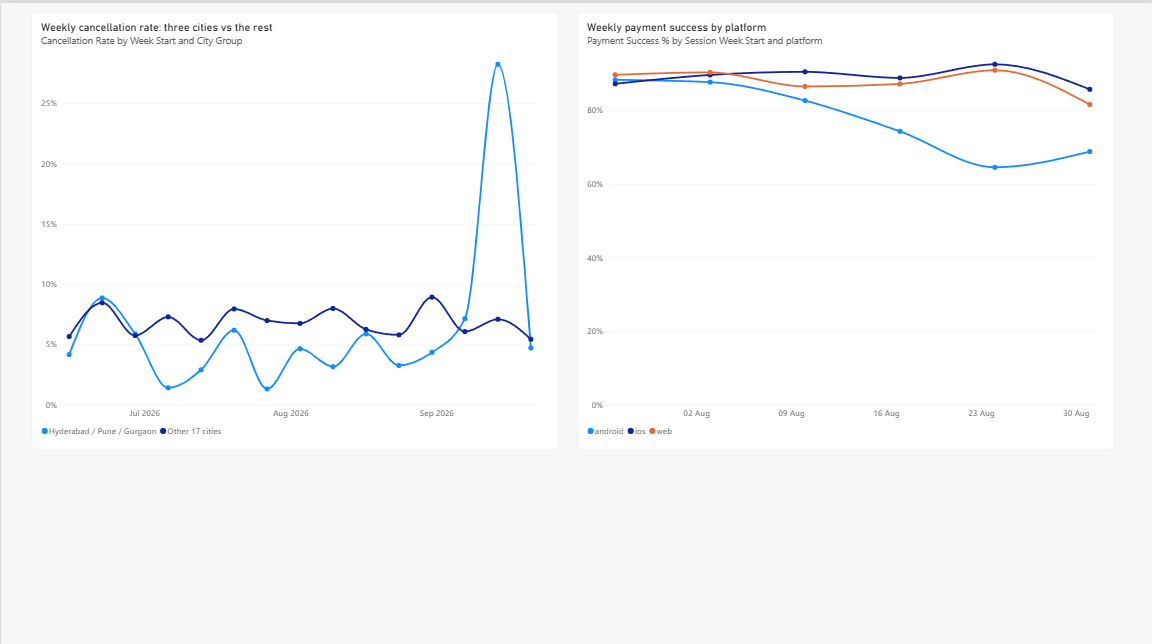

What the dashboard file says about the page in this screenshot:
{"tool":"powerbi","page":{"name":"Investigation","canvas":[1920,1080],"ordinal":1},"visuals":[{"type":"lineChart","title":"Weekly cancellation rate: three cities vs the rest","fields":{"Category":["orders.Week Start"],"Series":["city_dim.City Group"],"Y":["orders.Cancellation Rate"]},"box":[50.4,13.9,879.5,730],"z":0},{"type":"lineChart","title":"Weekly payment success by platform","fields":{"Category":["sessions.Session Week Start"],"Series":["sessions.platform"],"Y":["session_events.Payment Success %"]},"box":[1138.5,121.7,716.1,484.9],"z":1}]}

Visuals, with their boxes in screenshot pixels (x1, y1, x2, y2), scaled from the page's 1920x1080 canvas onto the 1152x644 screenshot:
"Weekly cancellation rate: three cities vs the rest" lineChart: bbox(30, 8, 558, 444)
"Weekly payment success by platform" lineChart: bbox(683, 73, 1113, 362)
